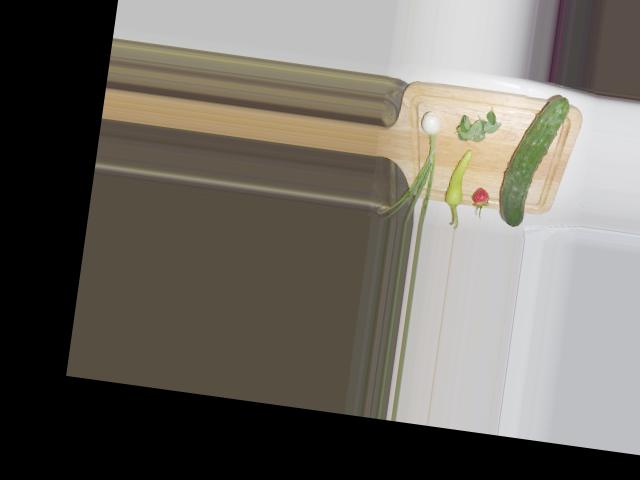cucumber: (497, 90, 571, 231)
